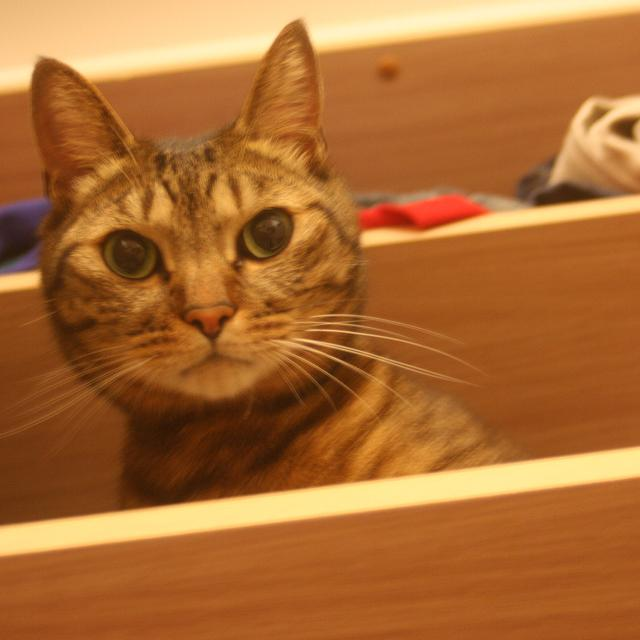animals: (42, 21, 325, 334)
